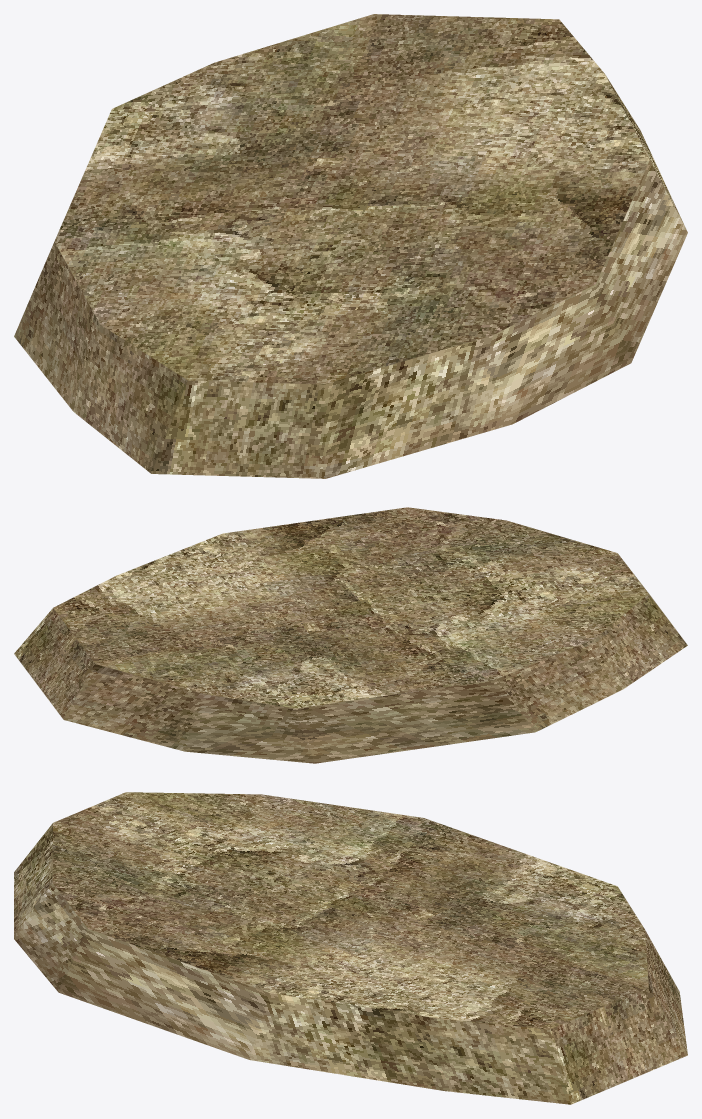
Rendered from stage-east-p7-134.glb.
3 views of the same model, one above another, from view 1: azimuth 30°, elevation 25°; view 2: azimuth 150°, elevation 25°; view 3: azimuth 270°, elevation 25° (orthographic). The views are drawn at different scales.
Size of the model in its own units: 12.09 by 1.63 by 11.98.
Materials: 1 (1 with a texture image).
